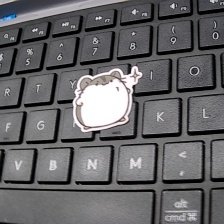mouse: (71, 65, 143, 134)
